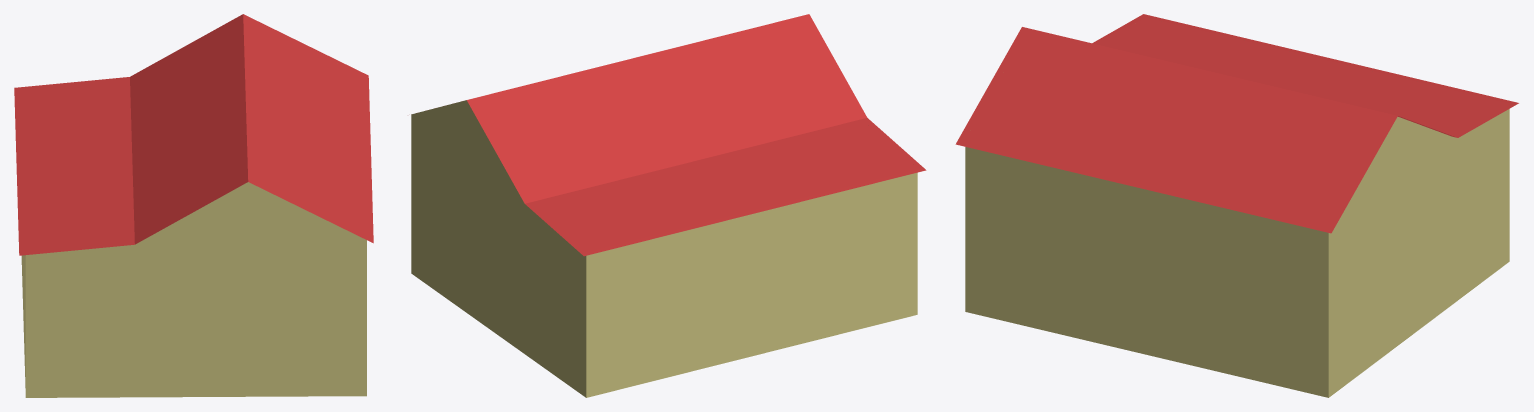
3 views of the same model, side by side, from view 1: azimuth 30°, elevation 25°; view 2: azimuth 150°, elevation 25°; view 3: azimuth 270°, elevation 25° (orthographic). The views are drawn at different scales.
Size of the model in its own units: 19.01 by 19.63 by 9.06.
